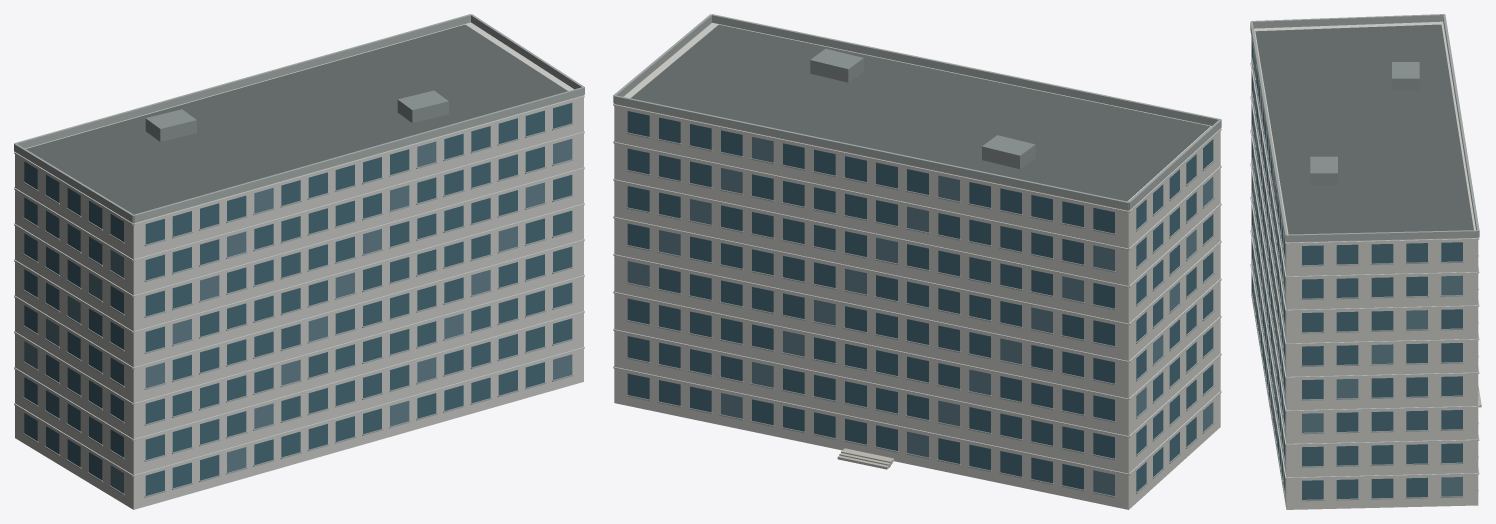
Rendered from 软件园与科创楼-001.glb.
The picture shows the model from 3 angles, left to right: view 1: azimuth 30°, elevation 25°; view 2: azimuth 150°, elevation 25°; view 3: azimuth 270°, elevation 25°; orthographic projection. The views are drawn at different scales.
Visible parts, largest first — view 1: 软件园与科创楼-001; view 2: 软件园与科创楼-001; view 3: 软件园与科创楼-001.
Boxes of the visible parts, left/top/right/bottom form: 软件园与科创楼-001: left=14, top=14, right=584, bottom=509; 软件园与科创楼-001: left=613, top=14, right=1221, bottom=509; 软件园与科创楼-001: left=1250, top=14, right=1481, bottom=509.
Size of the model in its own units: 53.14 by 31.42 by 23.45.
